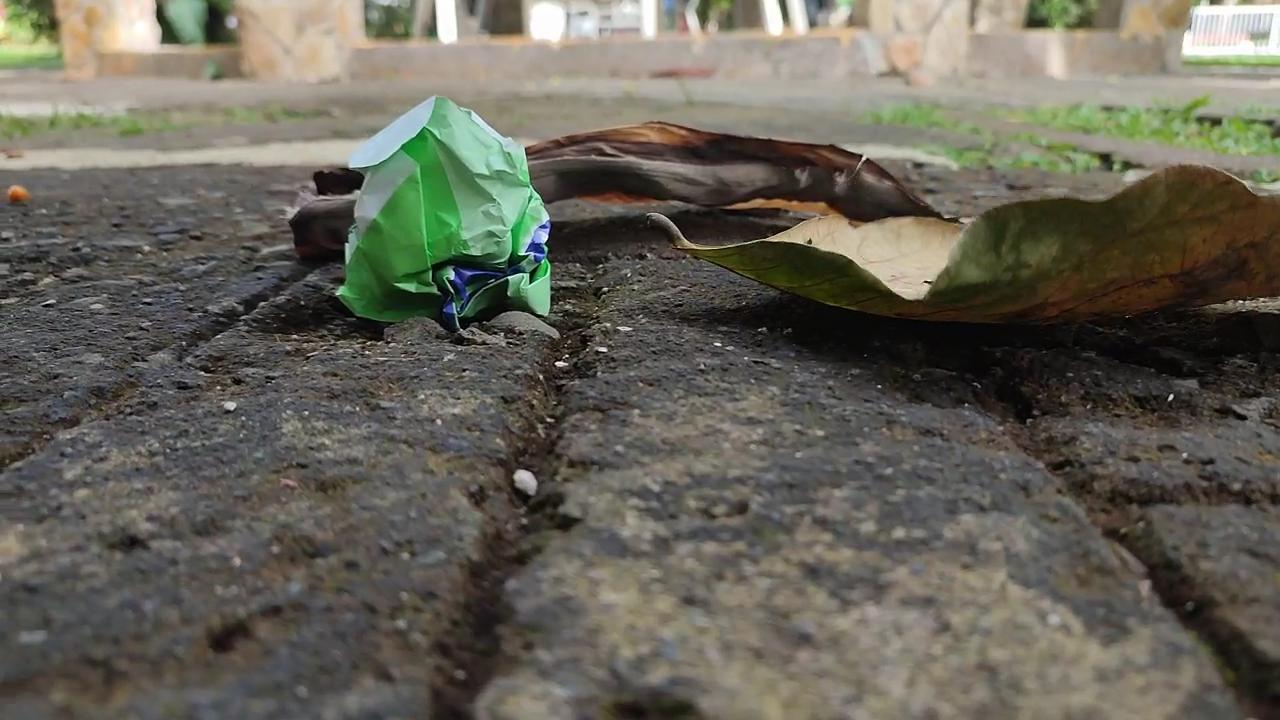Paper: (337, 88, 554, 350)
